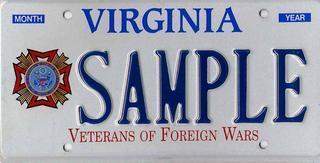placa de veiculo: (7, 0, 311, 161)
